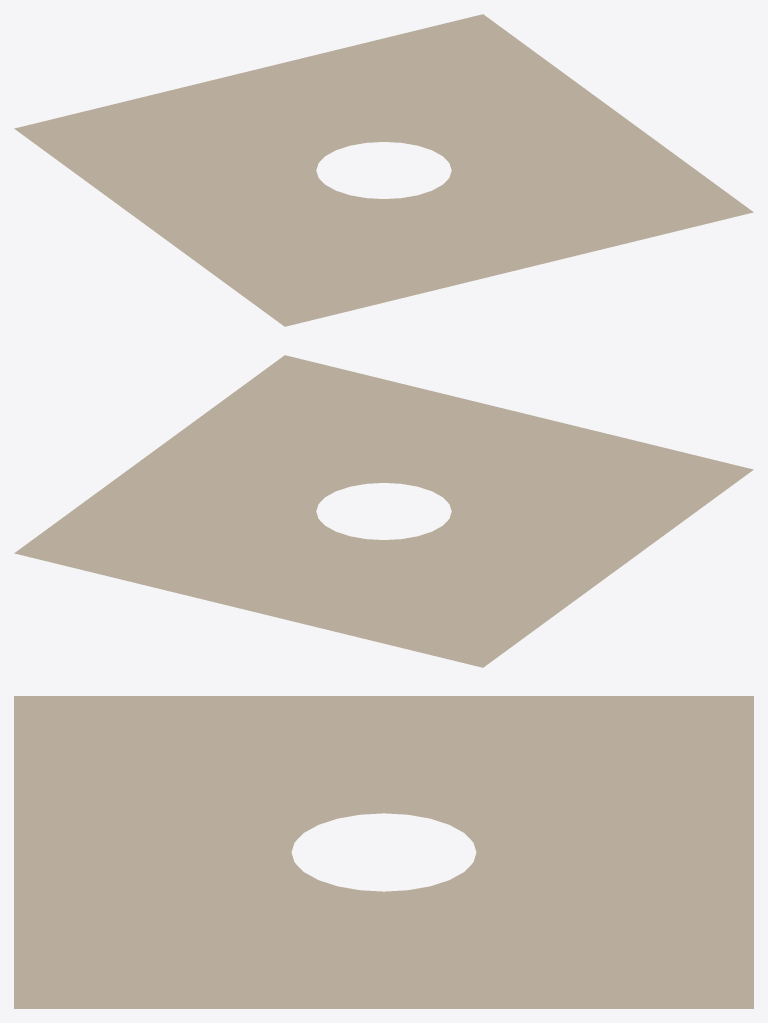
Rendered from planeWithHole.fbx.
3 renders of one model, top to bottom at view 1: azimuth 30°, elevation 25°; view 2: azimuth 150°, elevation 25°; view 3: azimuth 270°, elevation 25°, orthographic. The views are drawn at different scales.
Parts seen in each view (by area): view 1: Plane__9_; view 2: Plane__9_; view 3: Plane__9_.
Boxes of the visible parts, x1,y1,x2,y2 form: Plane__9_: (14,14,753,326); Plane__9_: (14,355,753,667); Plane__9_: (14,696,753,1008).
Size of the model in its own units: 1200 by 0.000196 by 1200.
